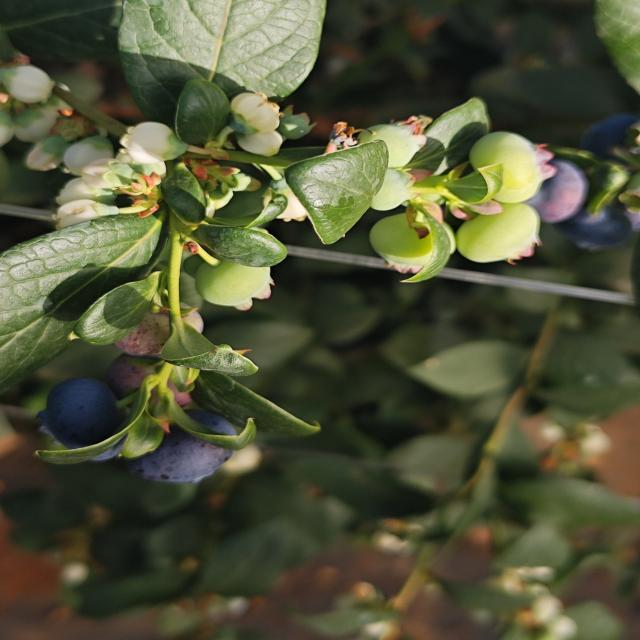ripe: (133, 408, 255, 503), (29, 371, 134, 464), (555, 193, 640, 261), (521, 146, 586, 226), (569, 112, 640, 162)
